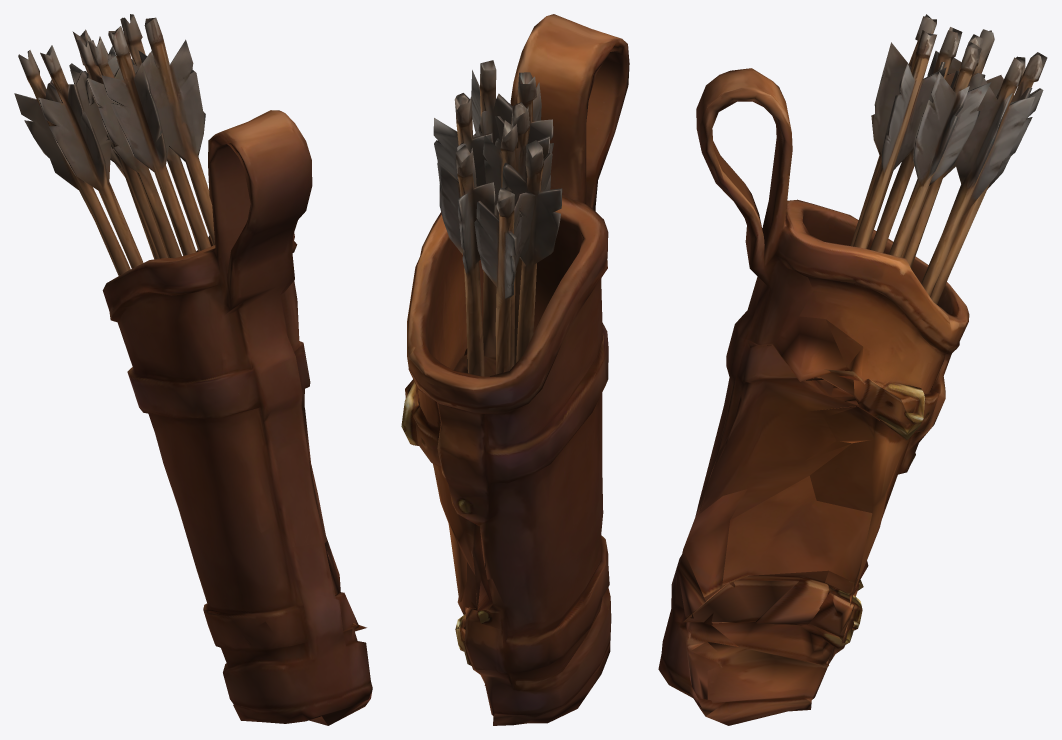
Rendered from quiver.glb.
3 renders of one model, left to right at view 1: azimuth 30°, elevation 25°; view 2: azimuth 150°, elevation 25°; view 3: azimuth 270°, elevation 25°, orthographic. The views are drawn at different scales.
Visible parts, largest first — view 1: quiver; view 2: quiver; view 3: quiver.
Part boxes in pixels (box(x1,y1,x2,y2)): quiver: box(14, 14, 372, 725); quiver: box(401, 14, 629, 725); quiver: box(658, 14, 1047, 725).
Size of the model in its own units: 0.2107 by 0.6755 by 0.3626.
Materials: 1 (1 with a texture image).
